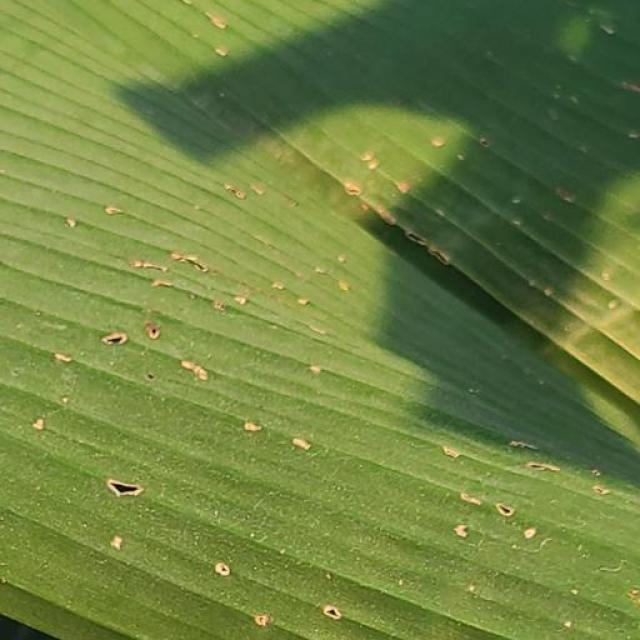Black_rot: (0, 194, 612, 640), (151, 4, 640, 210)
